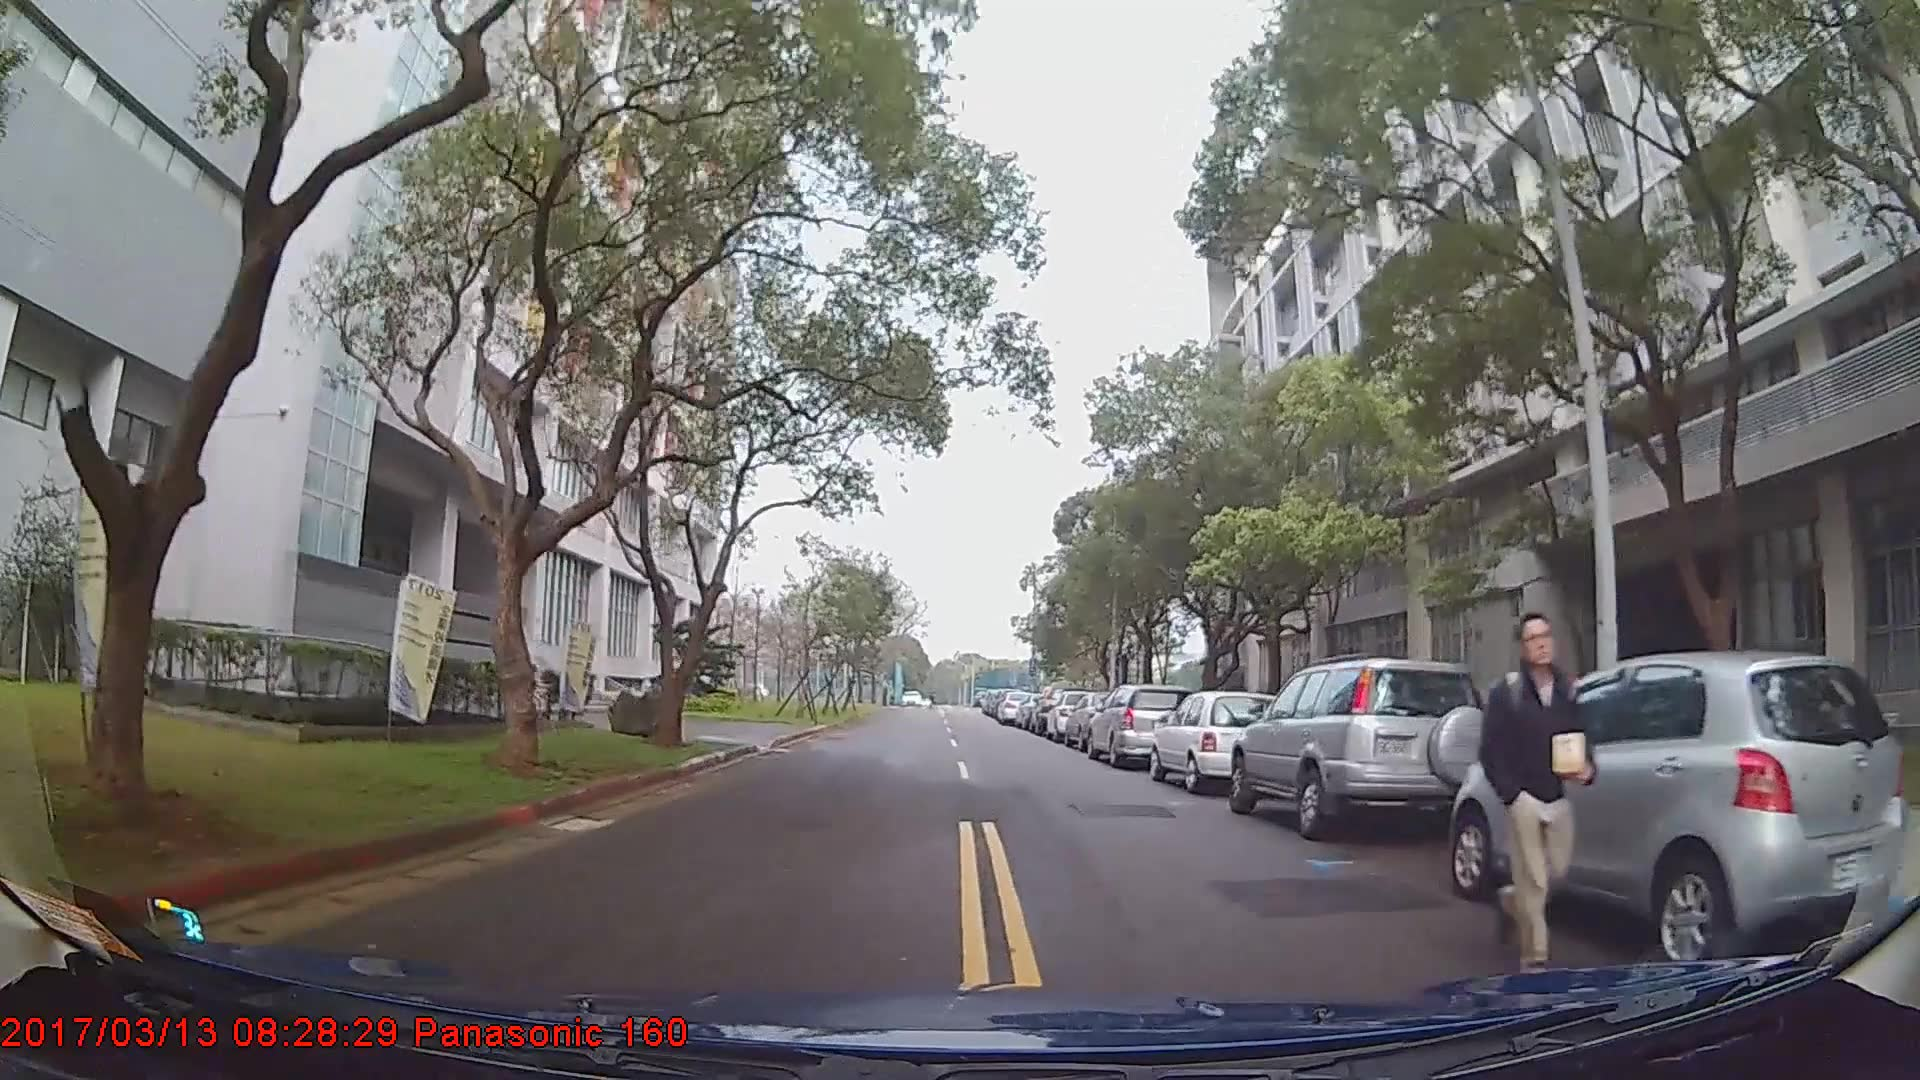pedestrian: (1486, 605, 1613, 974)
vehicle: (1447, 648, 1907, 969), (1228, 654, 1498, 840), (1147, 689, 1285, 795), (1085, 682, 1195, 768), (997, 688, 1037, 727)
